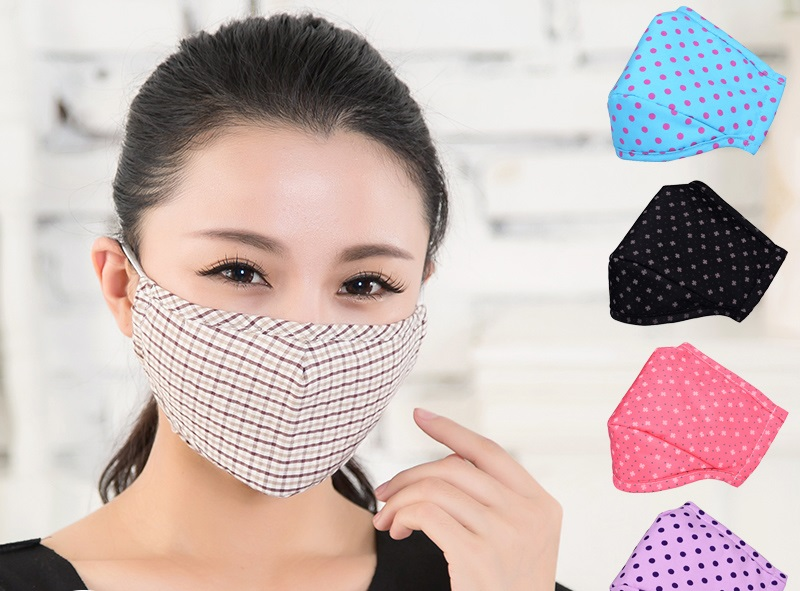face_mask: (140, 141, 428, 495)
